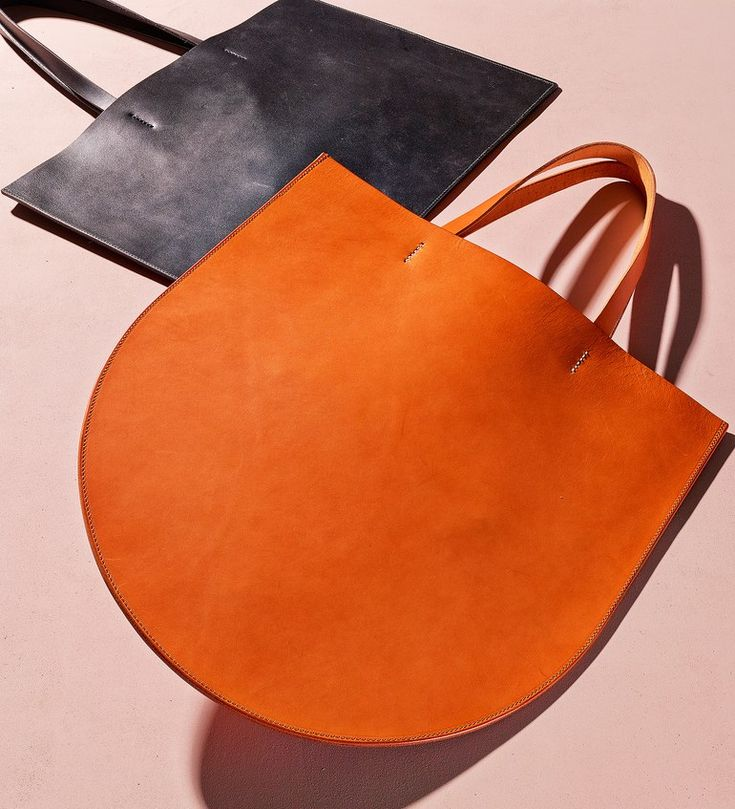cuero: (6, 1, 735, 751)
